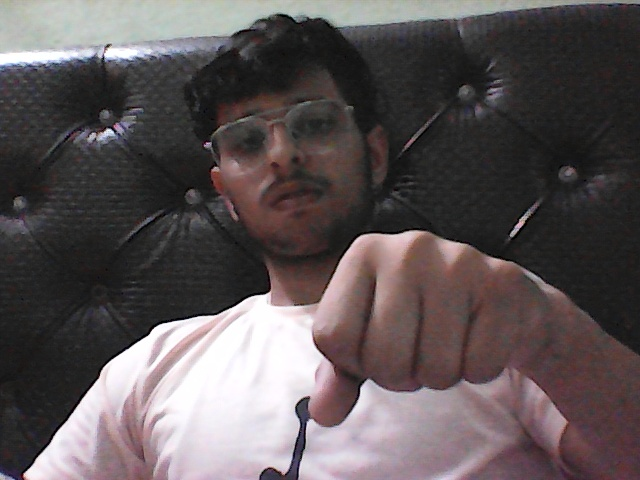yes: (291, 217, 559, 477)
